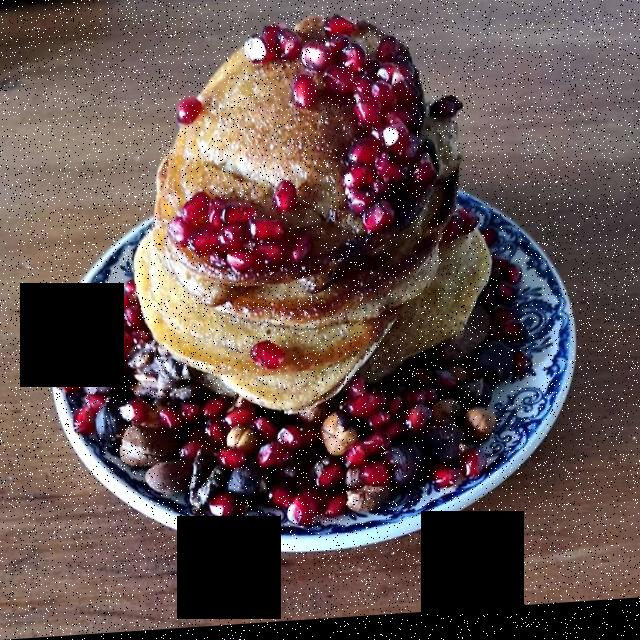maple-syrup-concentrate: (223, 249, 478, 350)
pancakes: (151, 26, 484, 405)
pomegranate: (62, 19, 570, 582)
